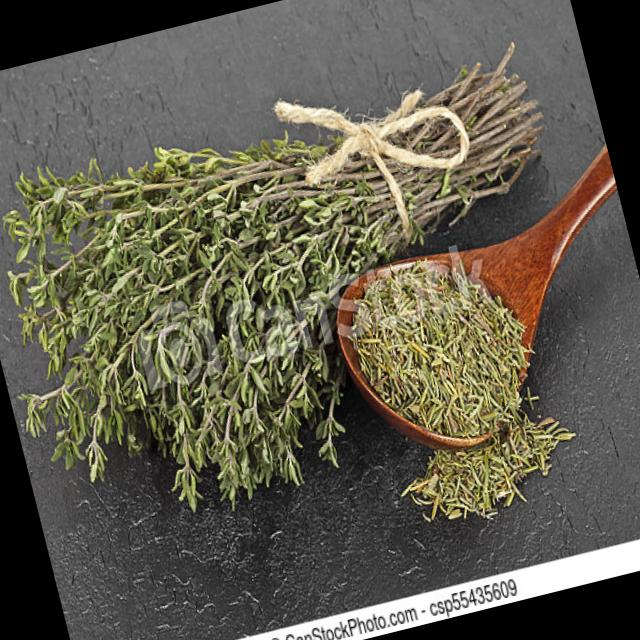Thyme: (0, 0, 632, 545), (335, 227, 626, 554)
